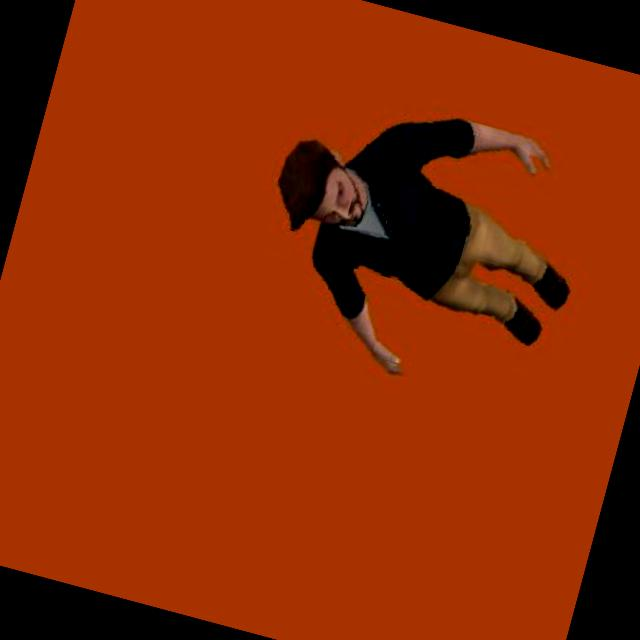Person: (227, 71, 608, 412)
